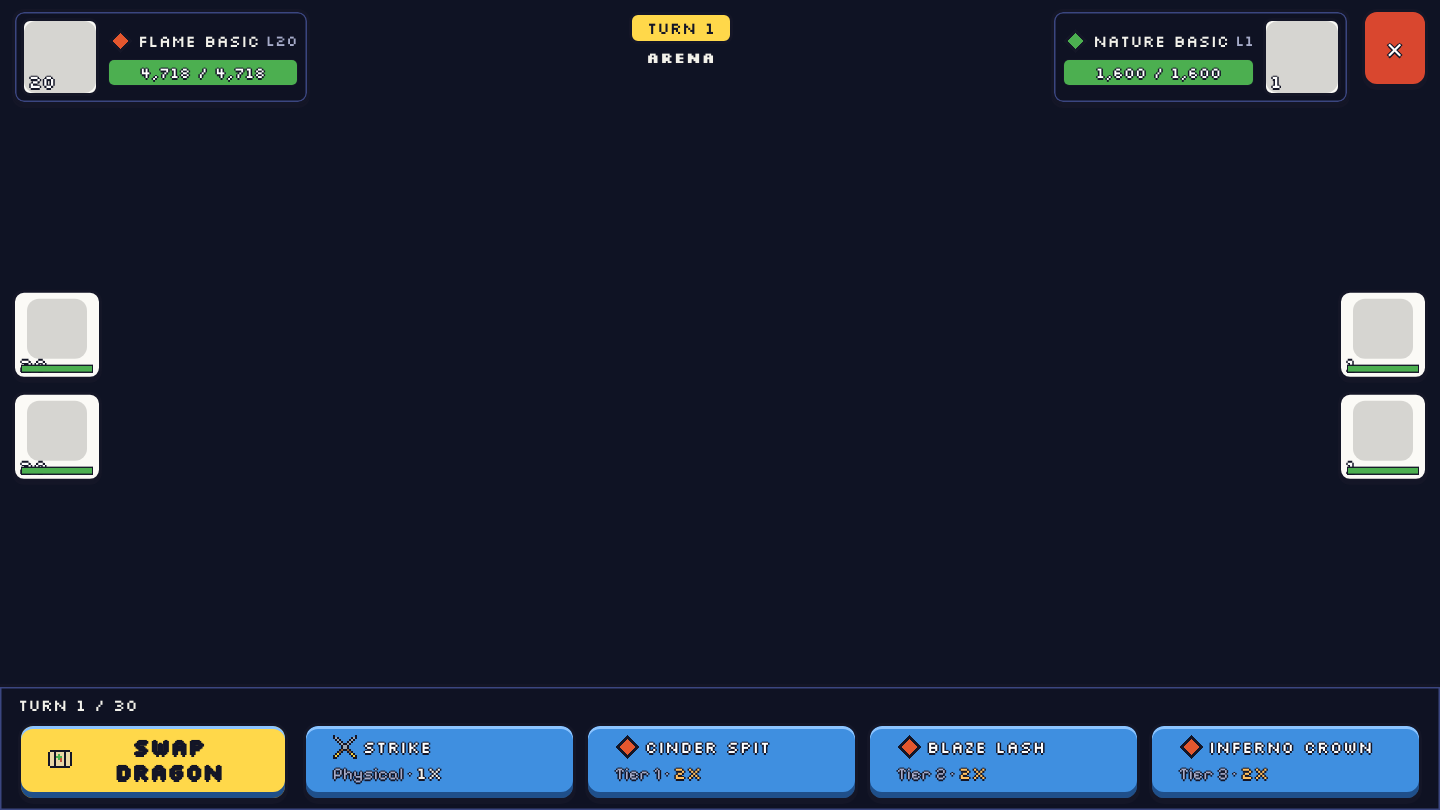
Test: BattlePanel › every state has a way out › a lost response: Try again reuses the same key, so the server replays what it already did
Click the button "Cinder Spit Tier 1 · 2x" at {"x": 708, "y": 747}, box [585,723,858,801]
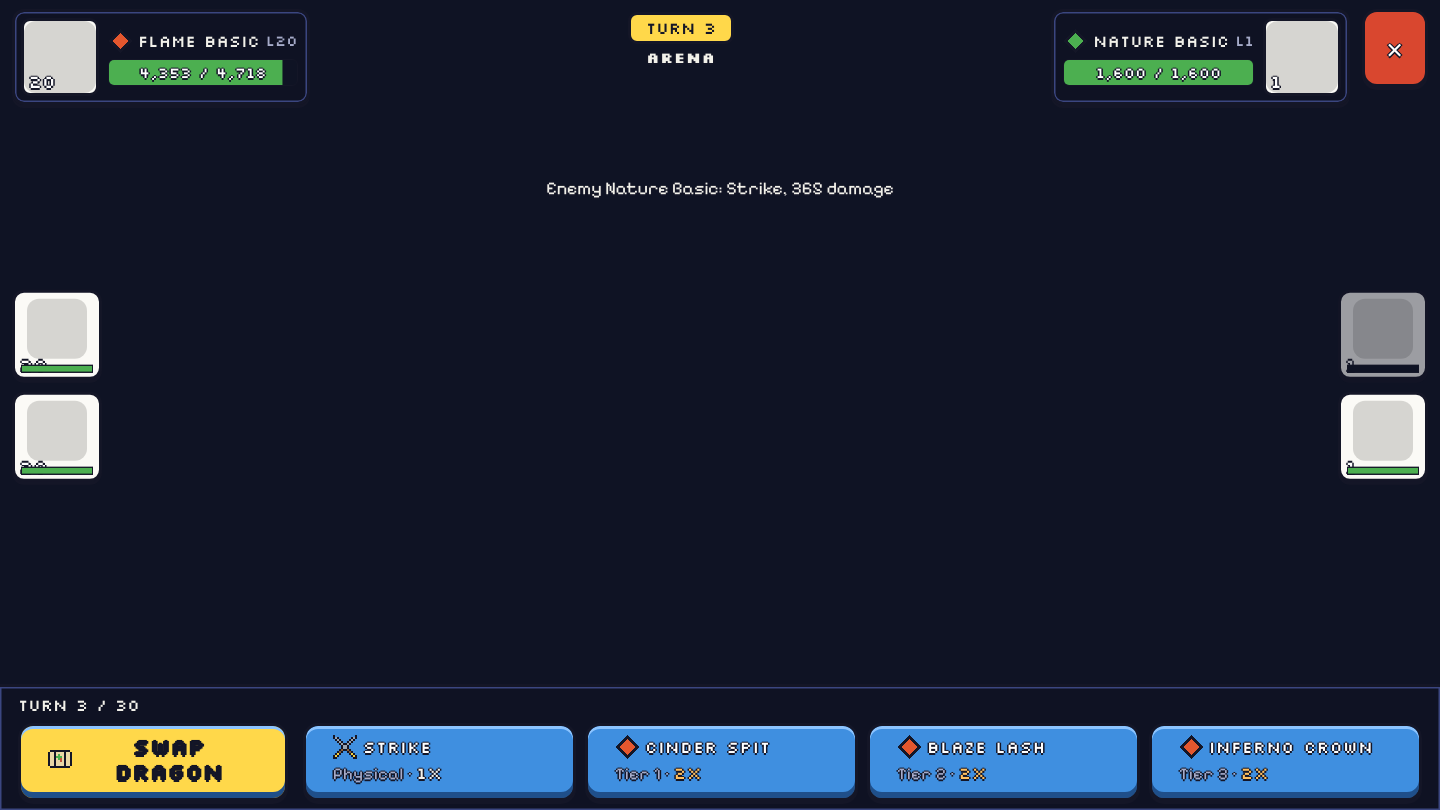
Click the button "Cinder Spit Tier 1 · 2x" at {"x": 708, "y": 747}, box [585,723,858,801]
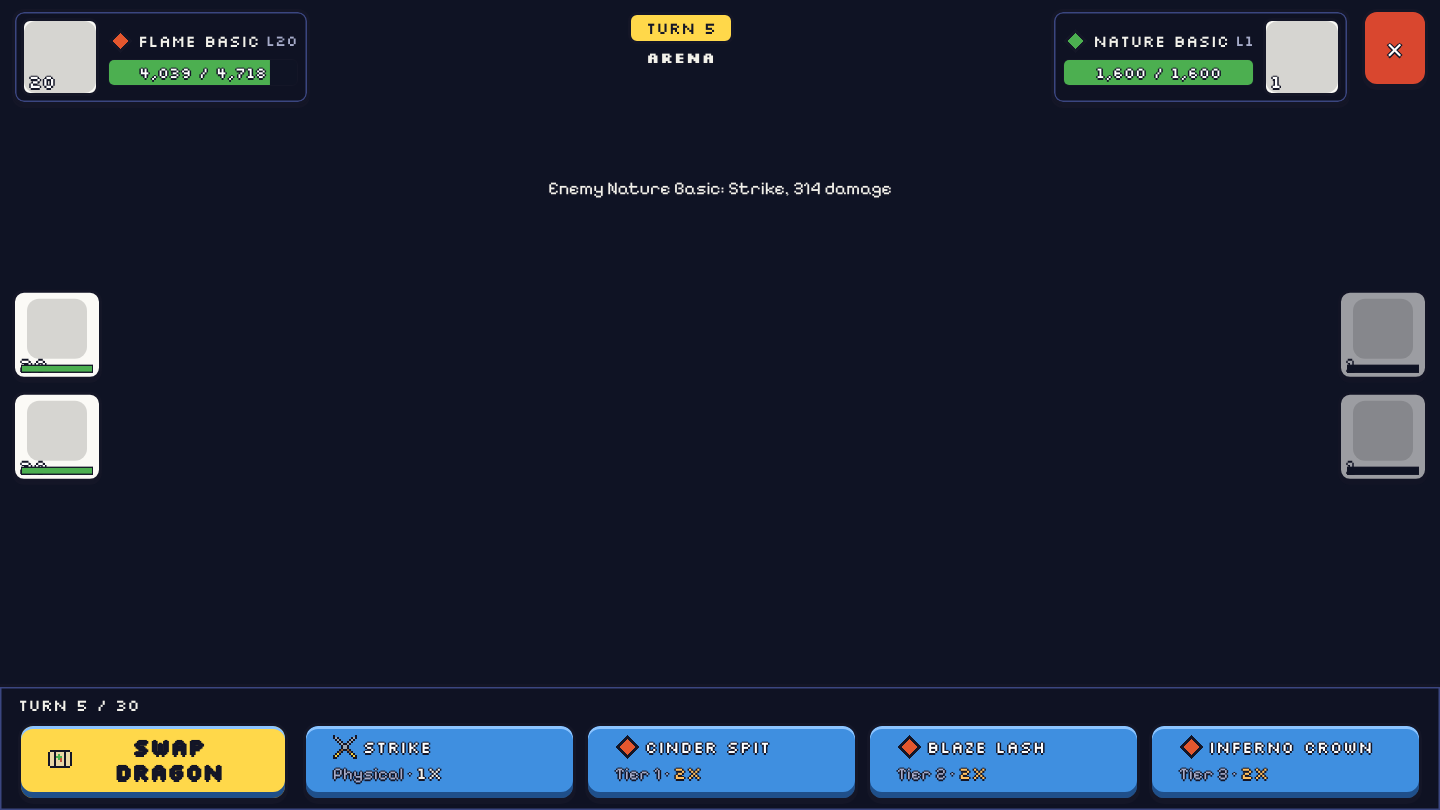
Click the button "Cinder Spit Tier 1 · 2x" at {"x": 708, "y": 747}, box [585,723,858,801]
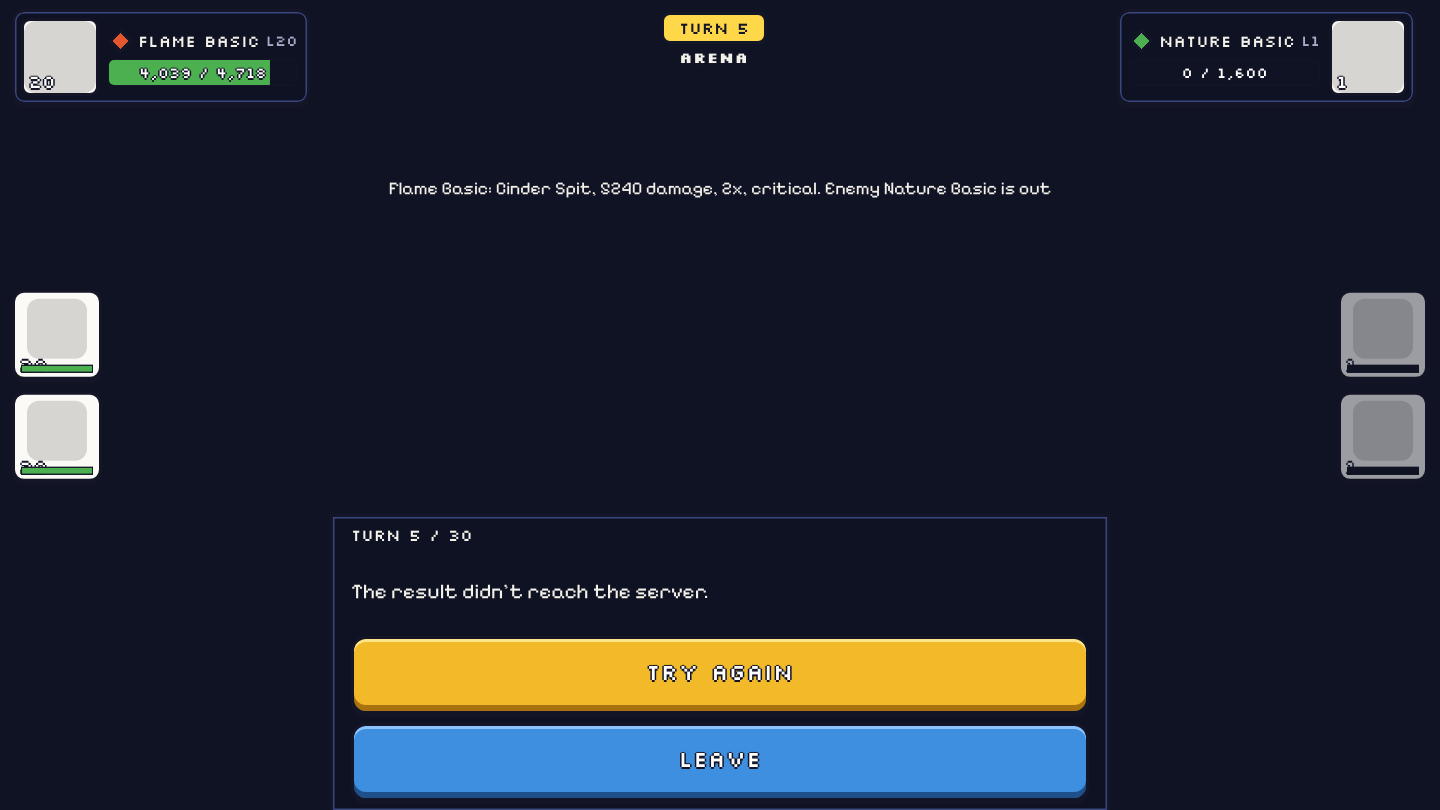
Click the button "Try again" at {"x": 720, "y": 675}, box [351,636,1089,714]
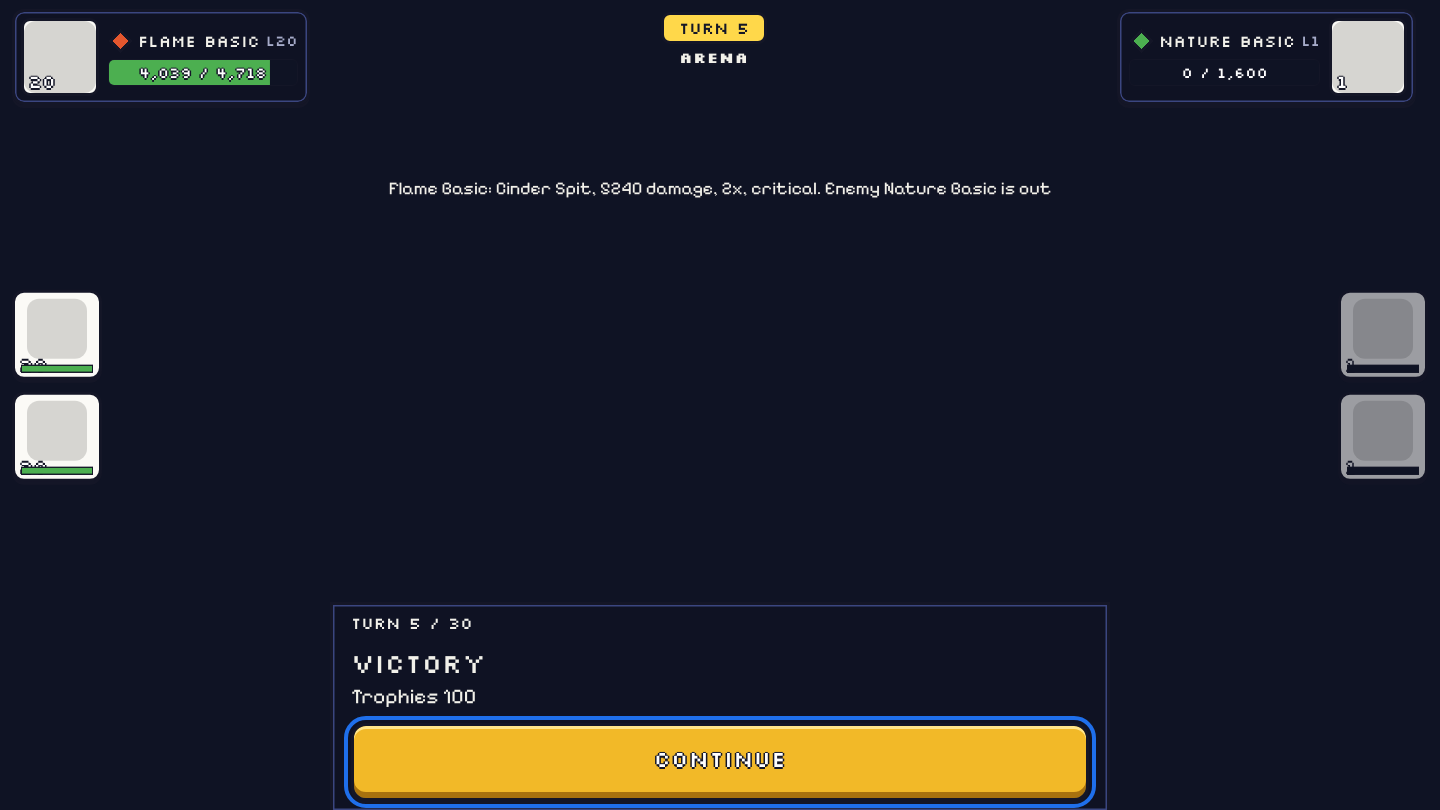
Expected: the message named "battle result" shows "Victory", [351,645,486,680]
